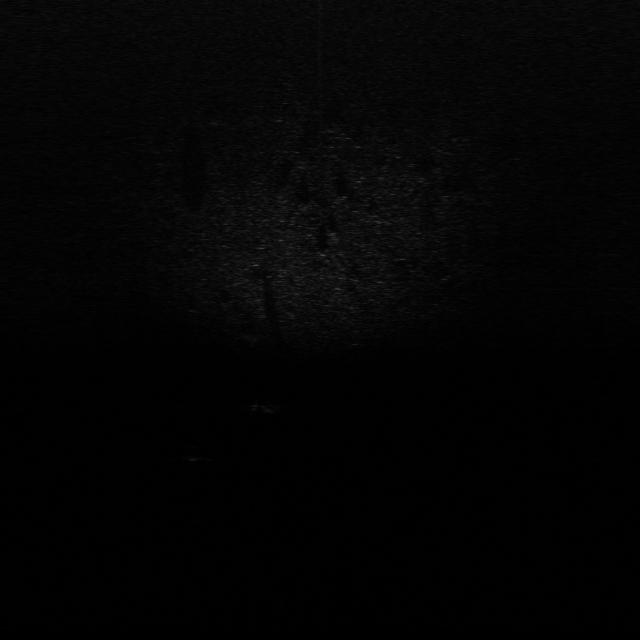ball: (180, 442, 208, 464)
human body: (256, 390, 286, 419)
